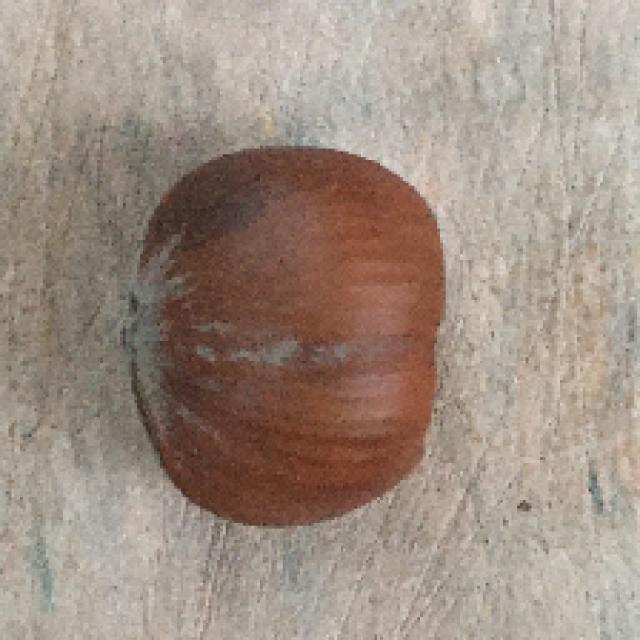damagedHazelnut: (117, 138, 469, 536)
